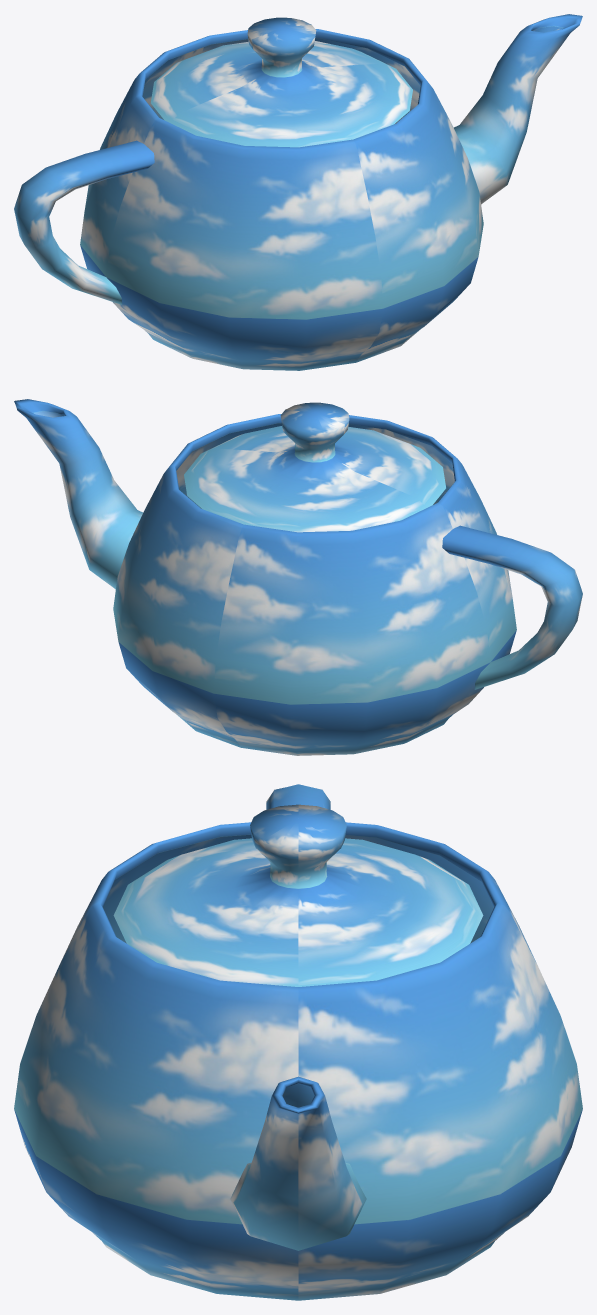
The model's file is TeaPot.FBX.
The picture shows the model from 3 angles, top to bottom: view 1: azimuth 30°, elevation 25°; view 2: azimuth 150°, elevation 25°; view 3: azimuth 270°, elevation 25°; orthographic projection. The views are drawn at different scales.
Parts seen in each view (by area): view 1: Teapot001; view 2: Teapot001; view 3: Teapot001.
Part boxes in pixels (box(x1,y1,x2,y2)): Teapot001: box(14, 14, 582, 370); Teapot001: box(14, 399, 582, 755); Teapot001: box(14, 784, 582, 1300).
Bounding box in the file's own units: 3.21 × 1.58 × 2.
1 material, 1 textured.
